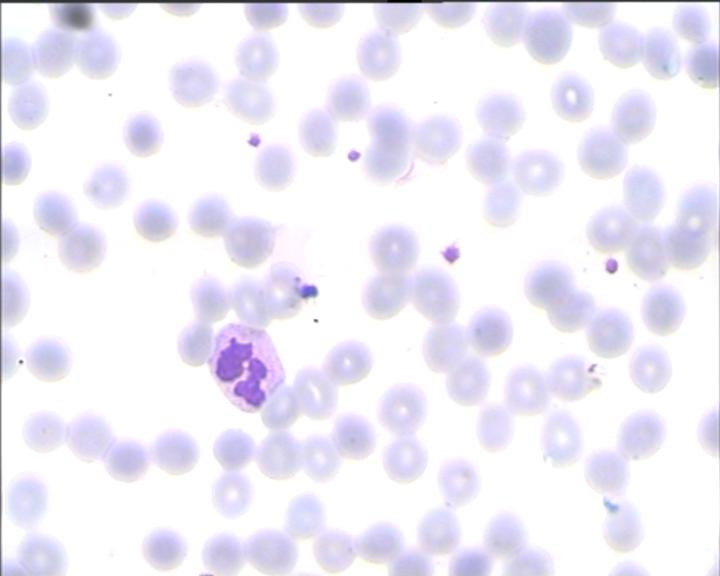neut: (206, 312, 289, 414)
